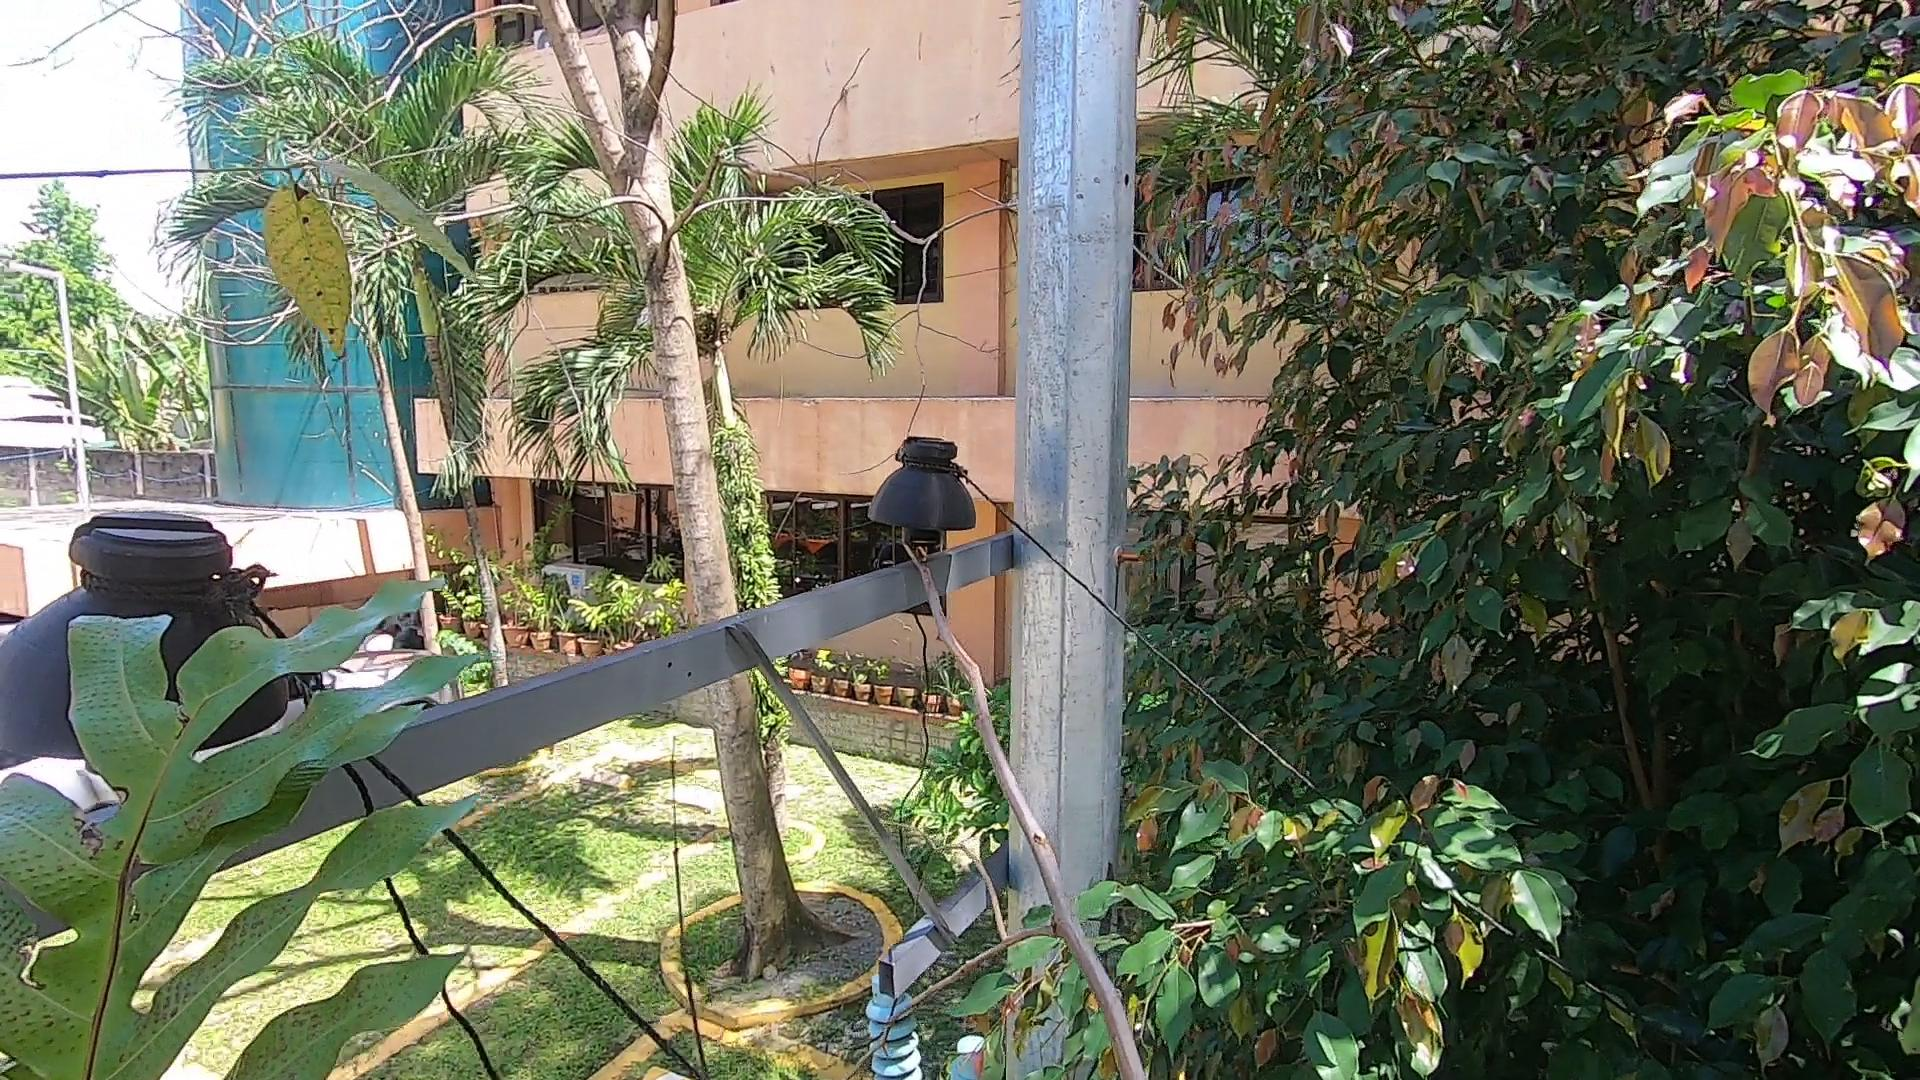branch with leaves: (924, 918, 1220, 1080)
leaf: (4, 560, 483, 1080)
tree branch: (887, 526, 1168, 1080)
